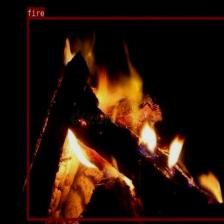fire: (26, 16, 224, 220)
